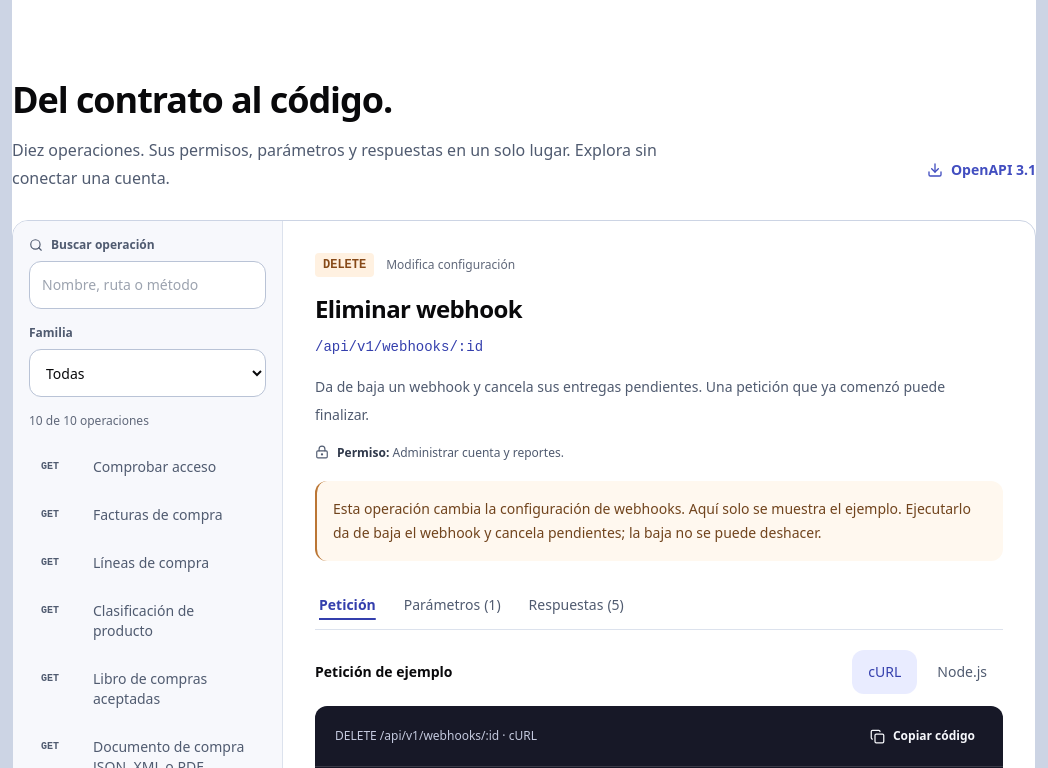
Scenario: developer portal › resets language, response and panel on operation change and explains mutations
Earlier steps of the test are not shown.
Expected: the button "cURL" is pressed, [852,650,917,694]
Expected: the button "Petición" is pressed, [315,581,380,629]
Click the button "Respuestas(5)".
click(576, 605)  # box [525,581,628,629]
(page scrolled)
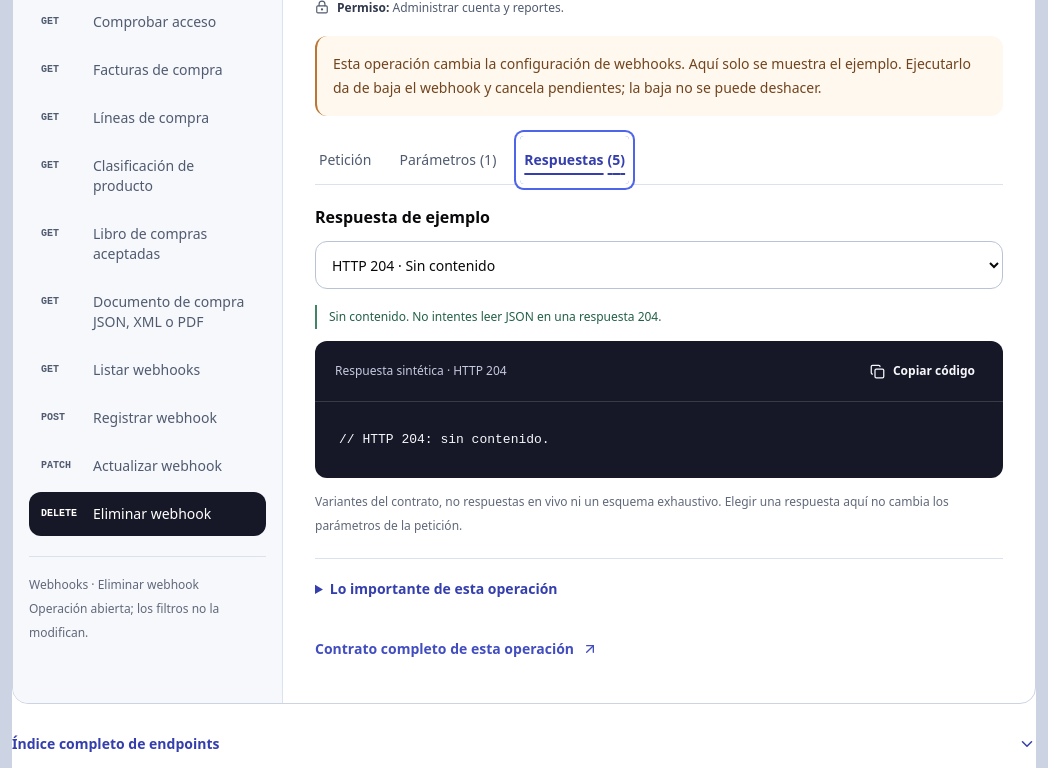
Expected: the element named "Código: Respuesta sintética · HTTP 204" is shown, [339,432,550,447]
Click the button "PATCH Actualizar webhook".
click(148, 466)  # box [29,444,266,488]
(page scrolled)
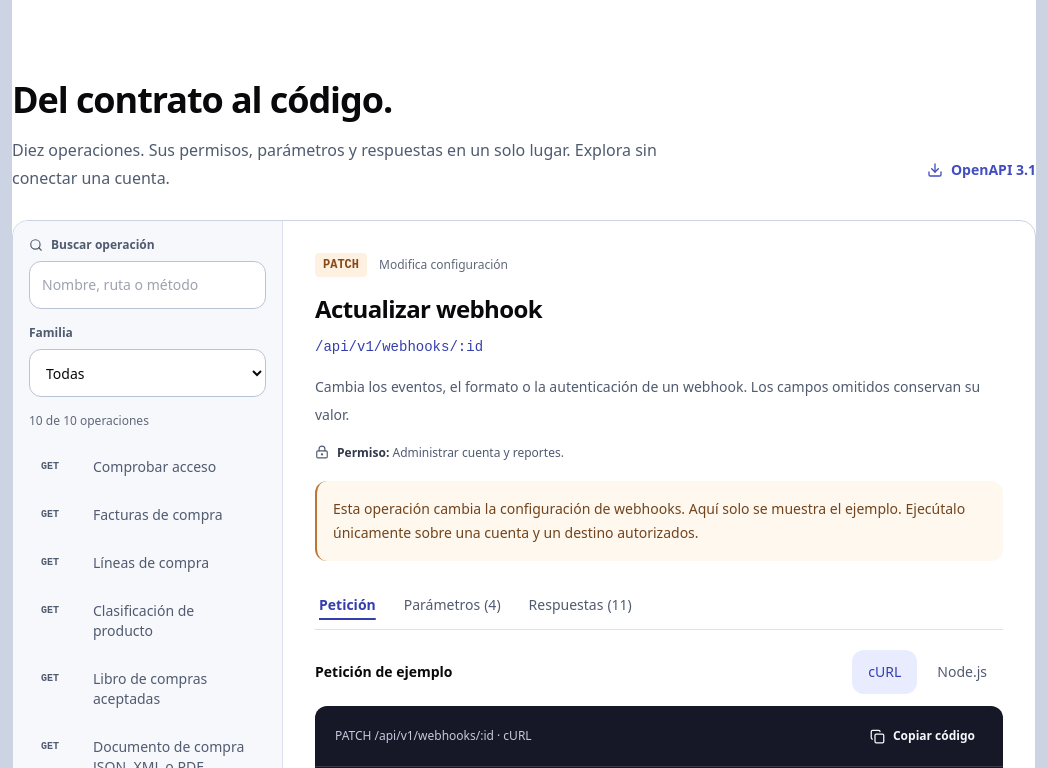
Expected: the heading "Actualizar webhook" is shown, [315,292,542,325]
